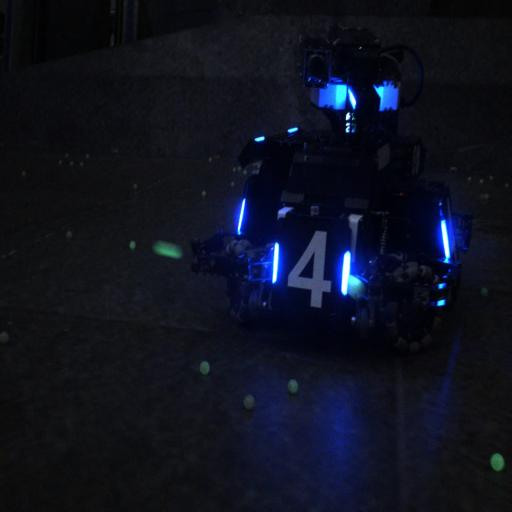target: (272, 212, 354, 326)
